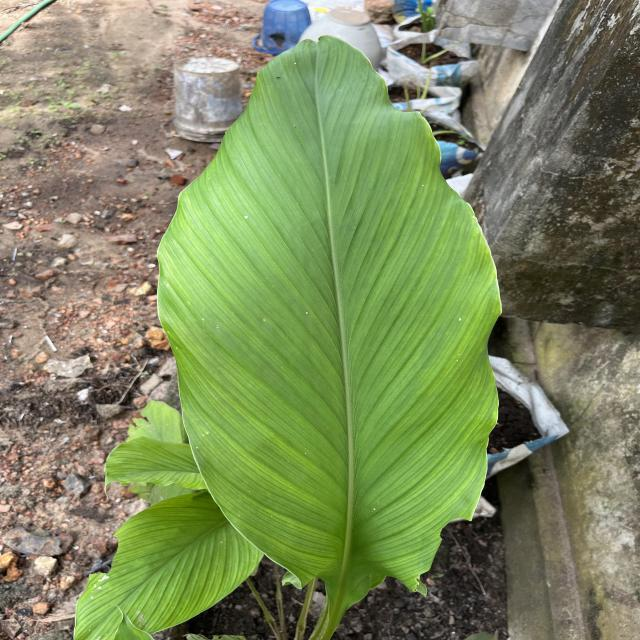Curcuma longa: (154, 32, 506, 598)
